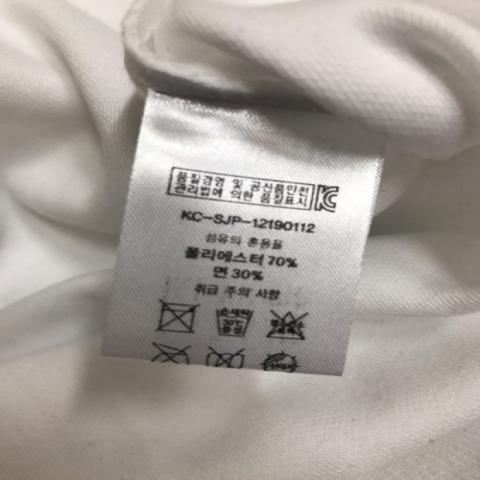DN_bleach: (261, 305, 313, 344)
DN_iron: (150, 340, 193, 369)
DN_wash: (155, 298, 201, 337)
DN_wring: (203, 345, 252, 373)
dry_flat_in_shade: (260, 348, 303, 374)
hand_wash: (212, 298, 261, 342)
